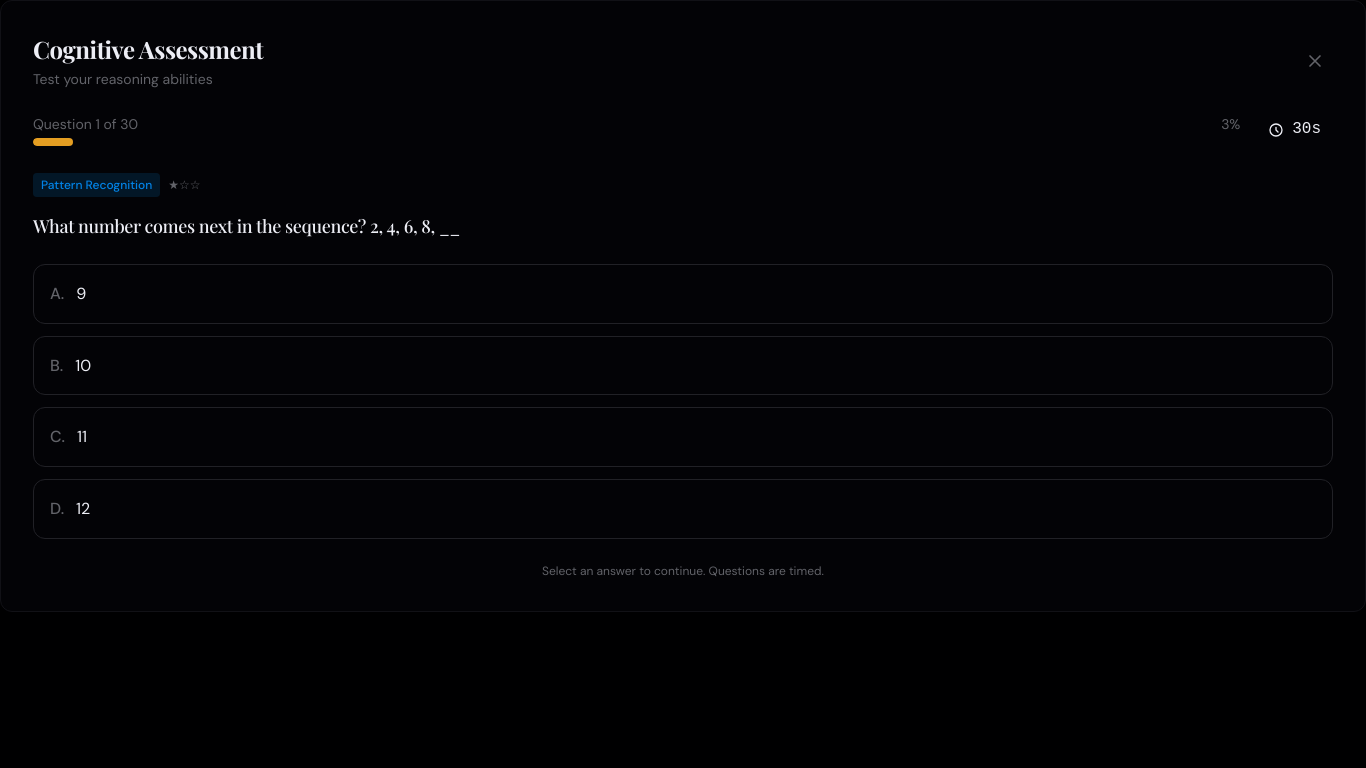
Test: Assessment Edge Cases › CognitiveAssessment Edge Cases › handles clicking an answer option
This screenshot has width=1366, height=768.
# Click an option
Click the text "9": (81, 294) [76, 283, 86, 304]
Wait 600 ms
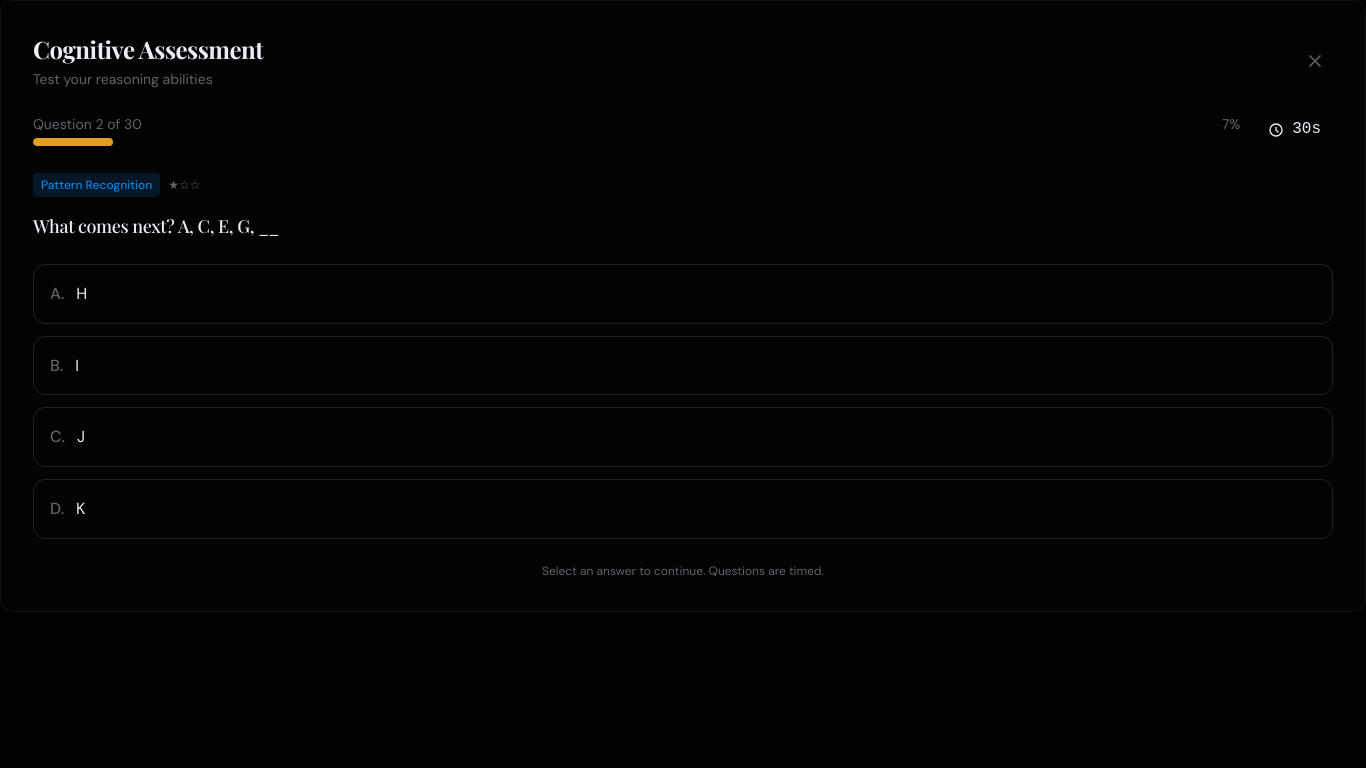
Check: the text "Question 2 of 30" is shown, box [33, 114, 142, 134]
